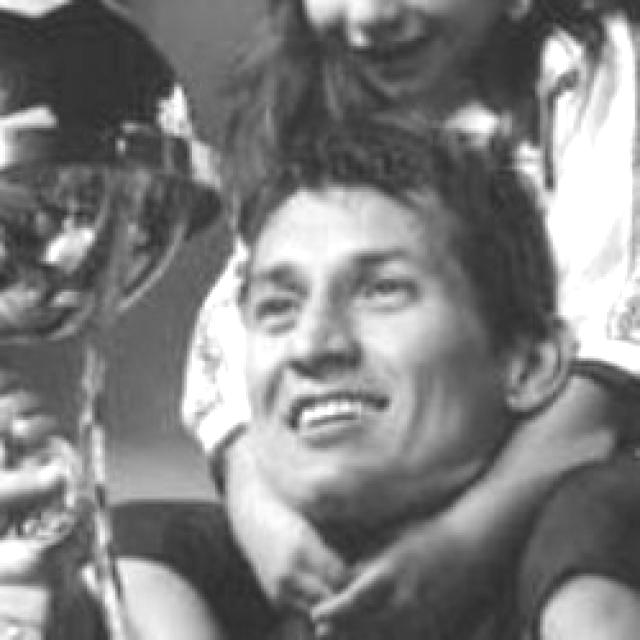real: (230, 151, 524, 524), (235, 255, 454, 332)
